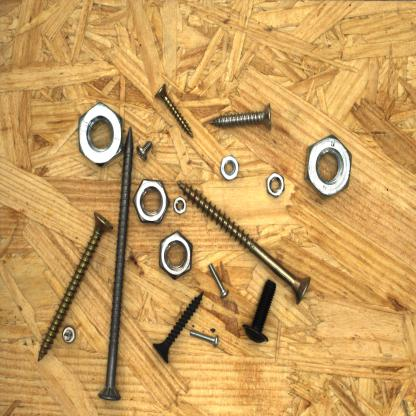screw: (174, 175, 316, 309), (34, 205, 117, 365), (95, 124, 136, 406), (149, 288, 206, 366), (150, 80, 197, 142), (240, 276, 278, 348), (206, 99, 278, 130), (205, 258, 234, 302), (186, 322, 224, 350), (133, 135, 157, 163), (58, 323, 80, 347)
